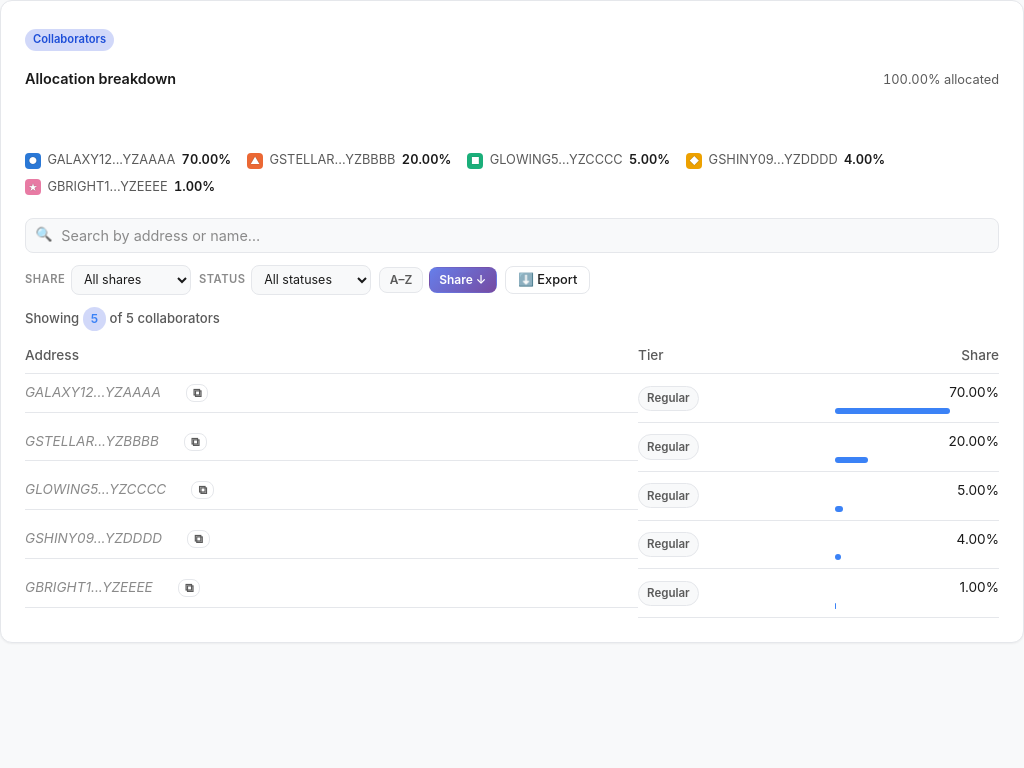
Test: CollaboratorTable › allows editing a collaborator name
Click the first one to enter edit mode
Click the button titled "Click to add a name" at (99,393), box [25,382,174,404]
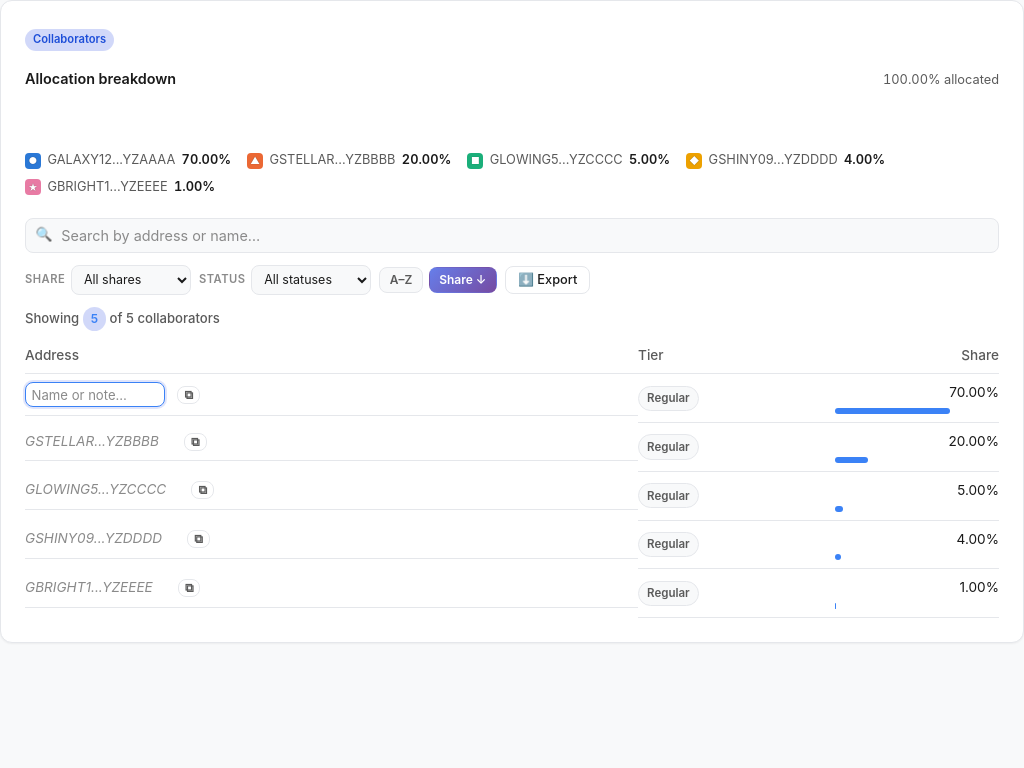
Expected: the field with placeholder "Name or note…" is shown
Type a name
Type "Alice" into the field with placeholder "Name or note…" at (95,395), box [25,382,165,407]
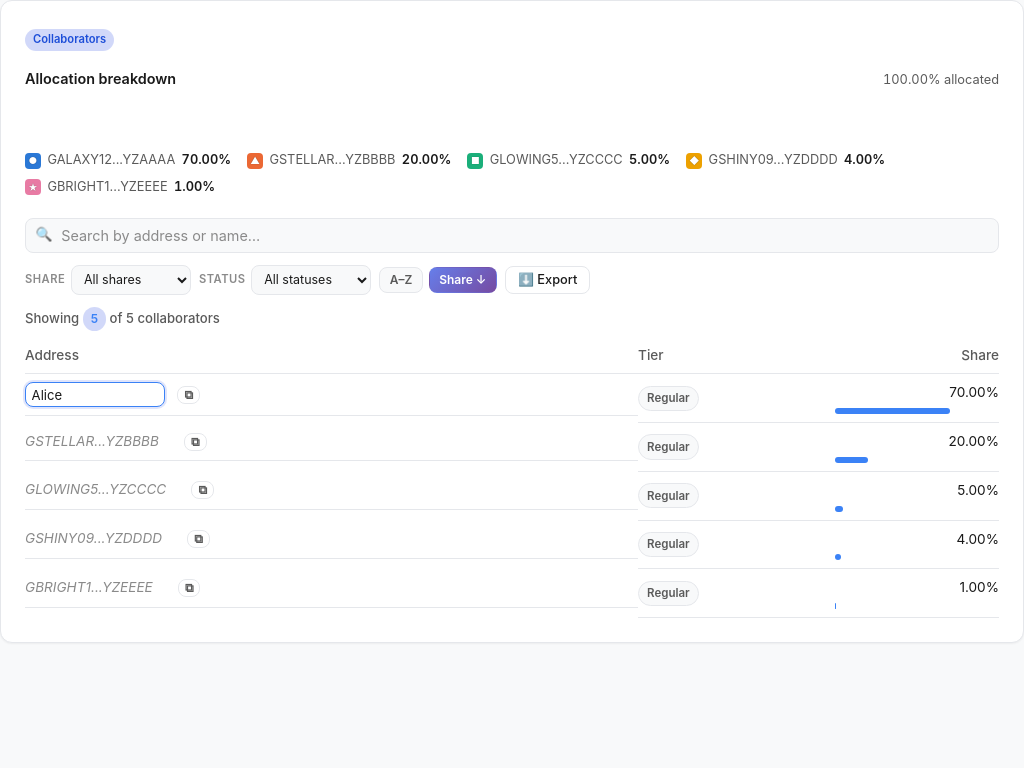
Press Enter in the field with placeholder "Name or note…", box [25,382,165,407]
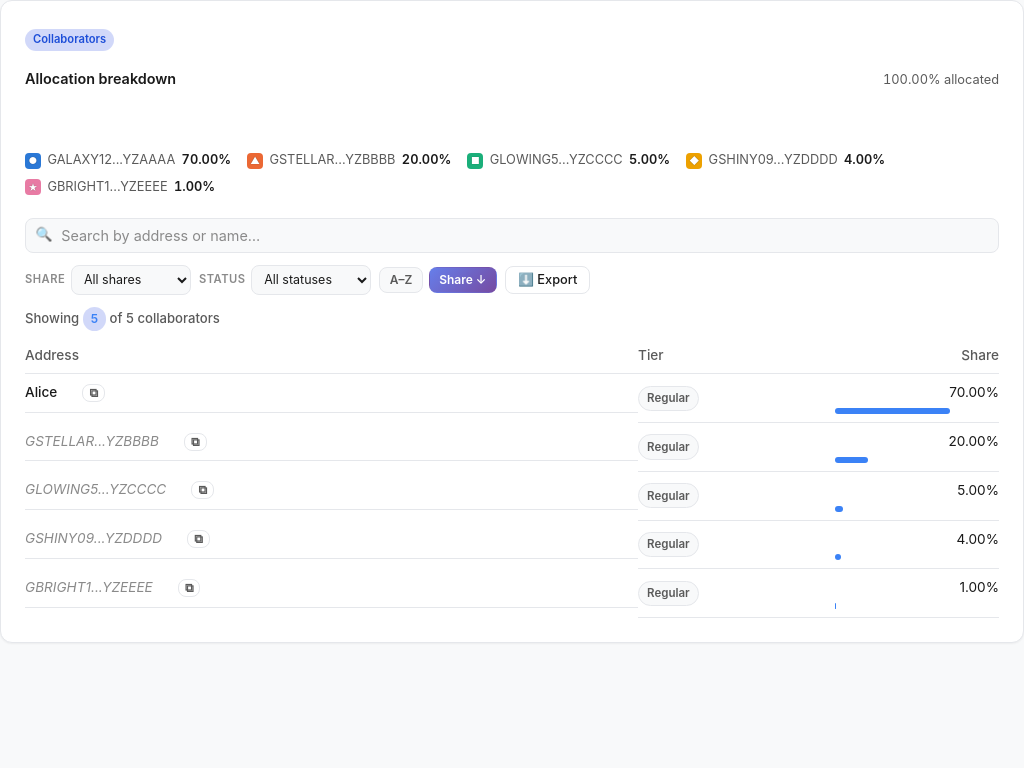
Expected: the text "Alice" is shown, [25,382,57,404]
